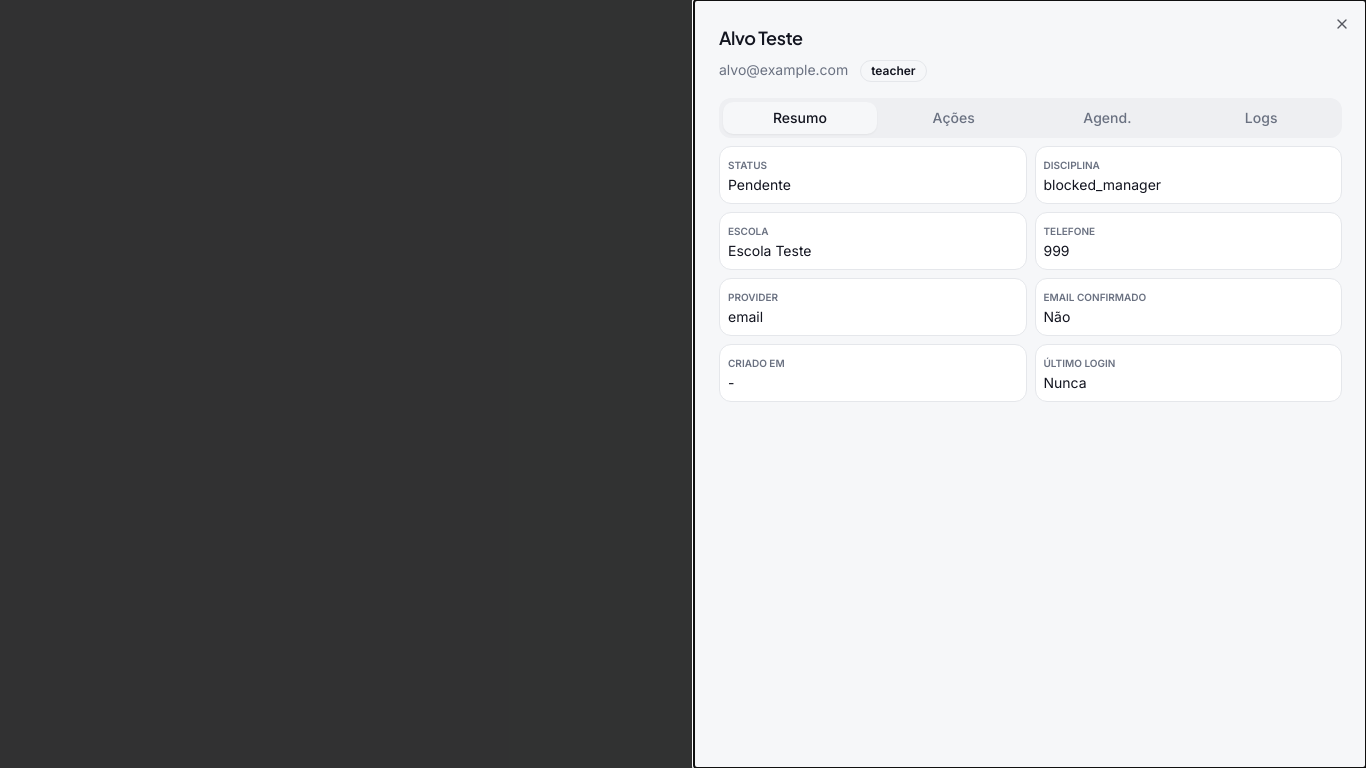
UserDetailDrawer — fluxo auditado (motivo obrigatório) › Desbloquear chama admin_set_user_blocked com _blocked=false e _reason
Later steps or results of the test are not shown.
Expected: the text "alvo@example.com teacher" is shown, [719,60,927,82]
Click the tab "Ações": (954, 118) [877,102,1031,134]
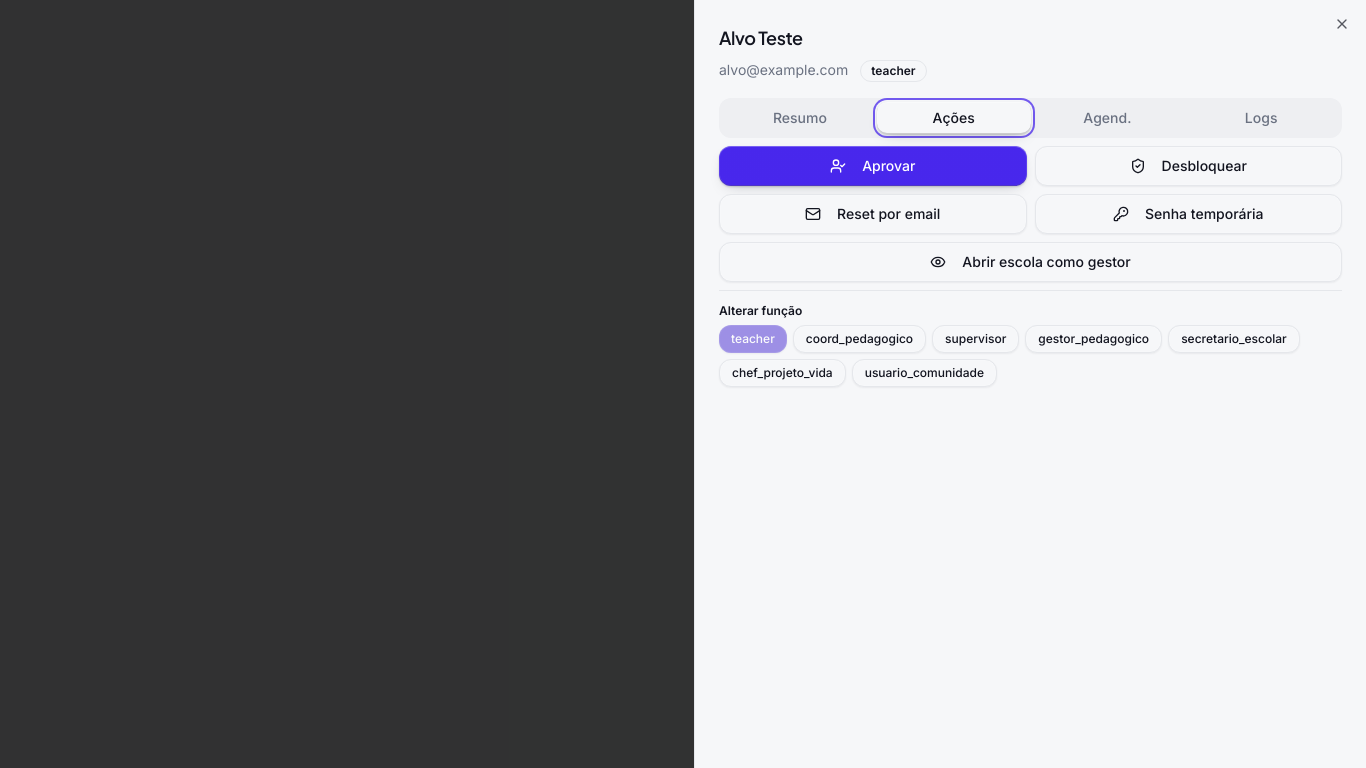
Now the panel named "Ações" is shown, box [719,146,1342,387]
Click the button "Desbloquear": (1188, 166) [1034,146,1342,186]
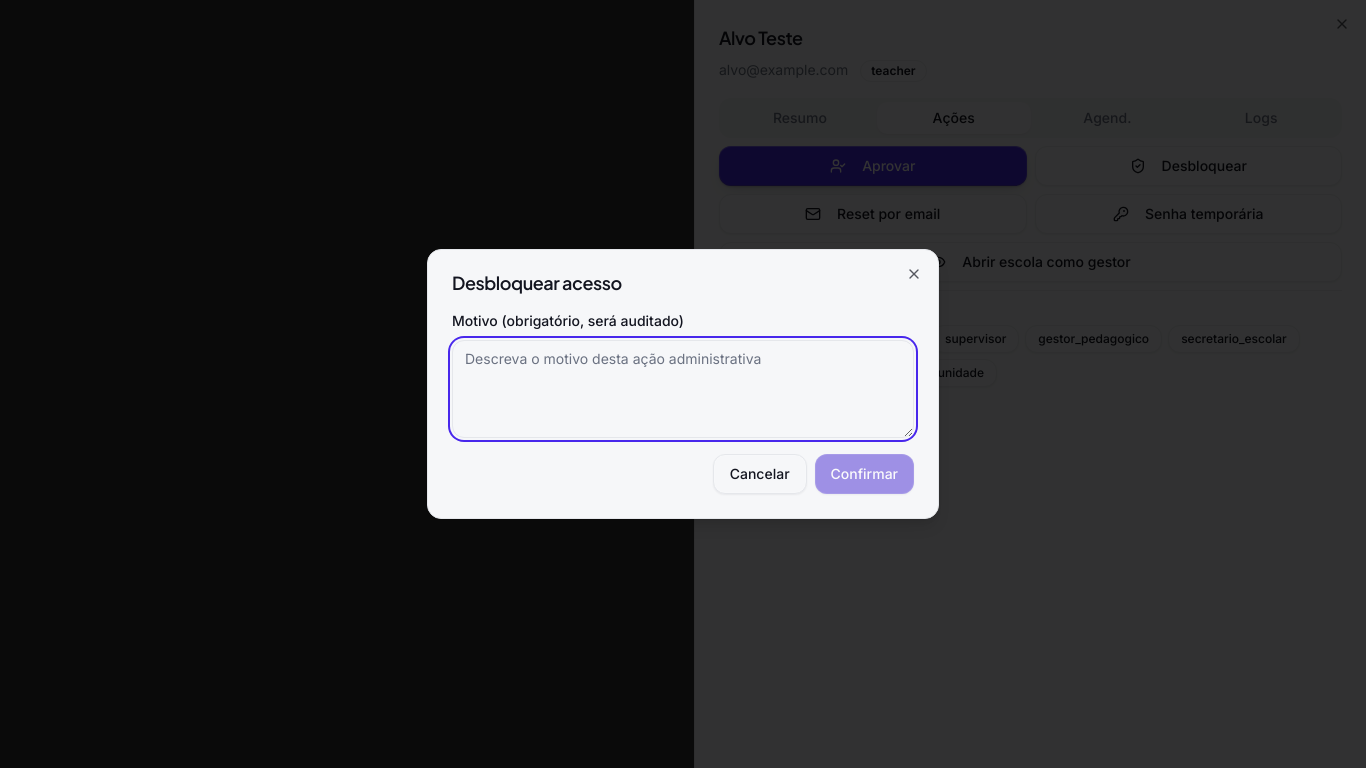
In the text box with placeholder "Descreva o motivo desta ação administrativa": (683, 389) [452,340,914,438], type "Recurso aprovado pela coordenação"
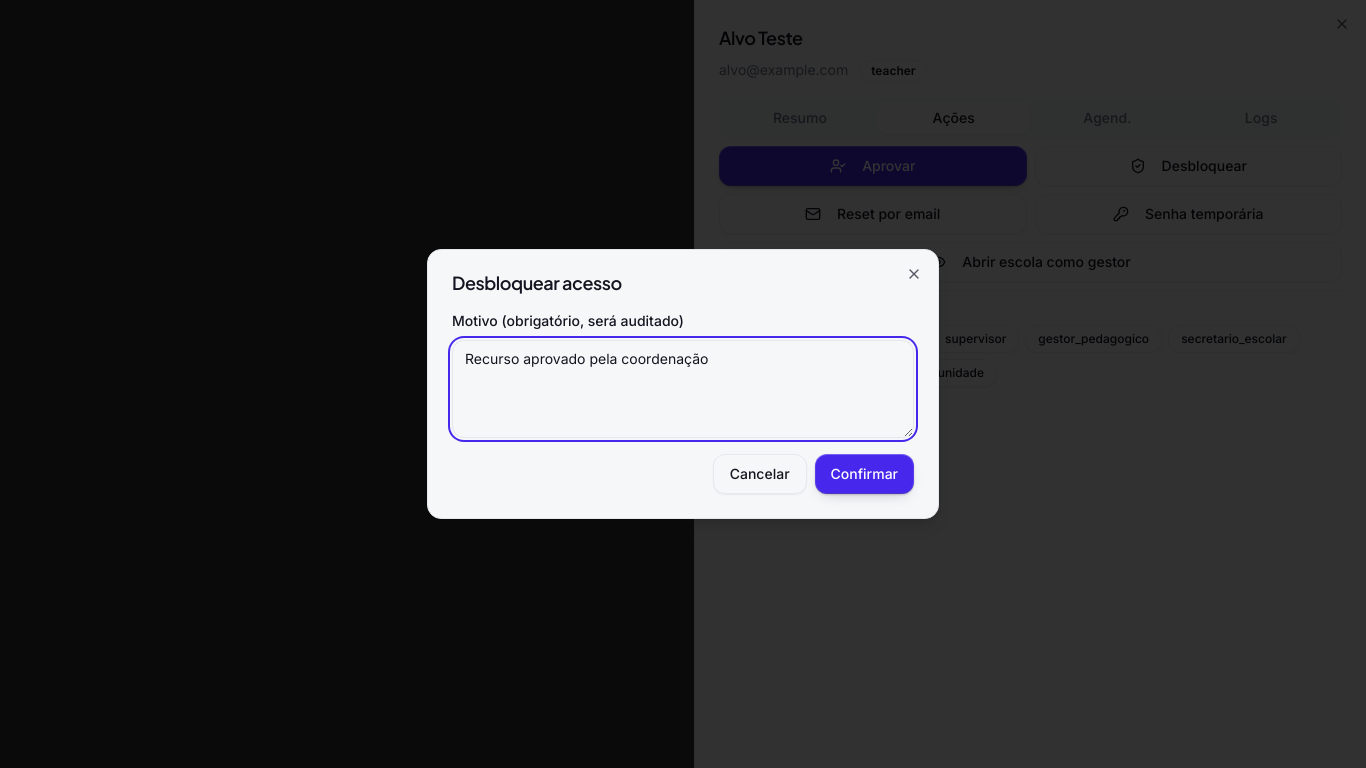
Now the button "Confirmar" is enabled, box [815,454,914,494]
